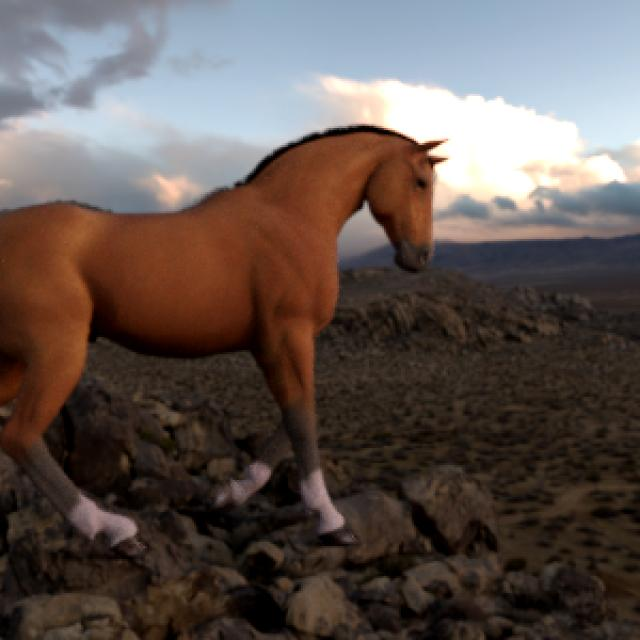horse: (0, 125, 444, 557)
